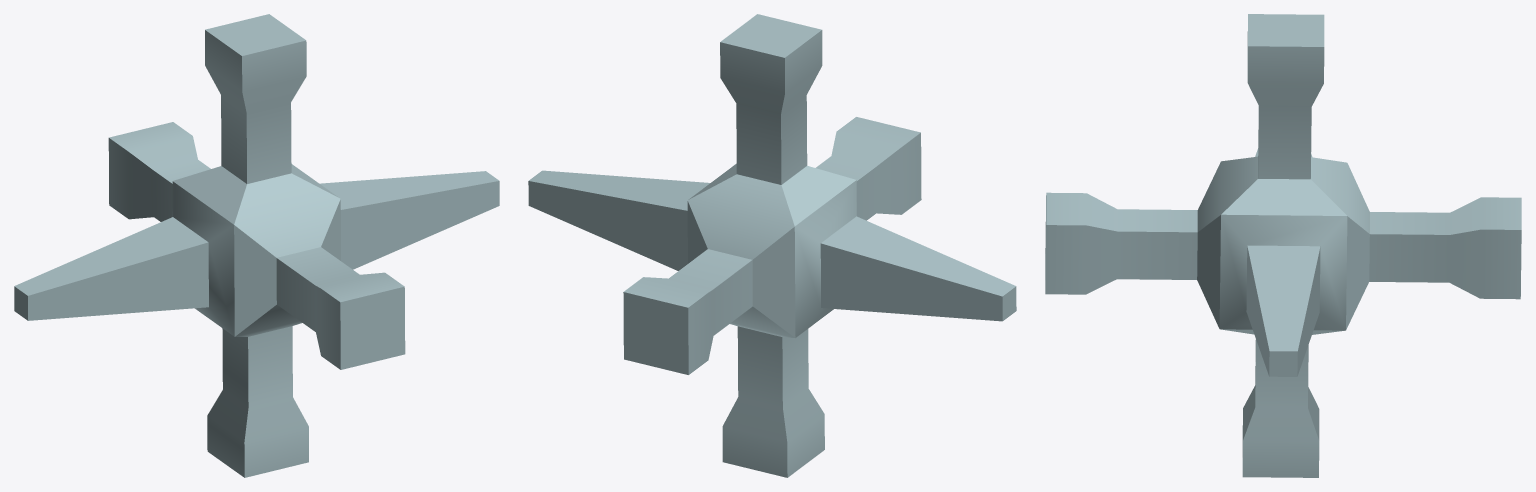
File: jack.fbx
3 views of the same model, side by side, from view 1: azimuth 30°, elevation 25°; view 2: azimuth 150°, elevation 25°; view 3: azimuth 270°, elevation 25° (orthographic). The views are drawn at different scales.
Visible parts, largest first — view 1: texture; view 2: texture; view 3: texture.
Boxes of the visible parts, x1,y1,x2,y2 form: texture: (14,14,499,477); texture: (528,14,1016,477); texture: (1045,14,1521,477).
Size of the model in its own units: 0.4521 by 0.3852 by 0.3852.
